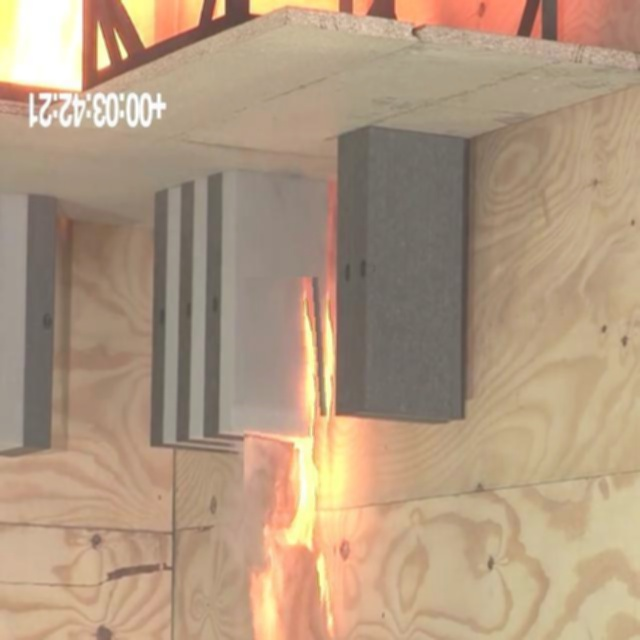fire: (240, 252, 362, 639)
